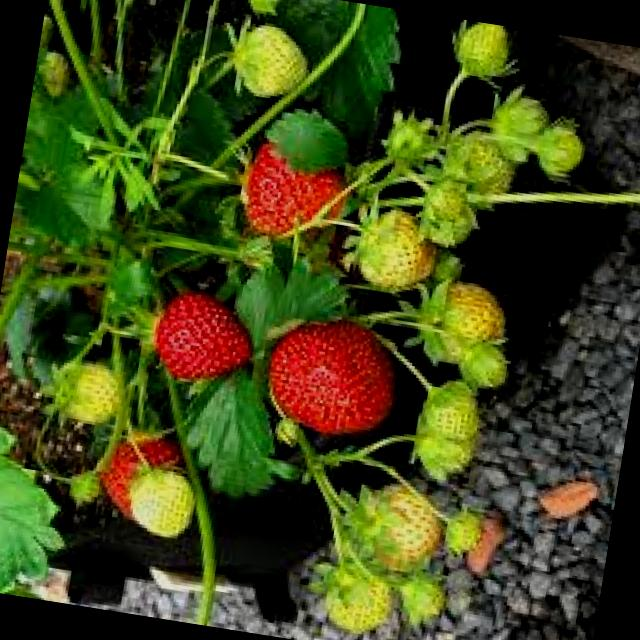strawberry: (259, 303, 409, 448), (136, 283, 264, 387)
